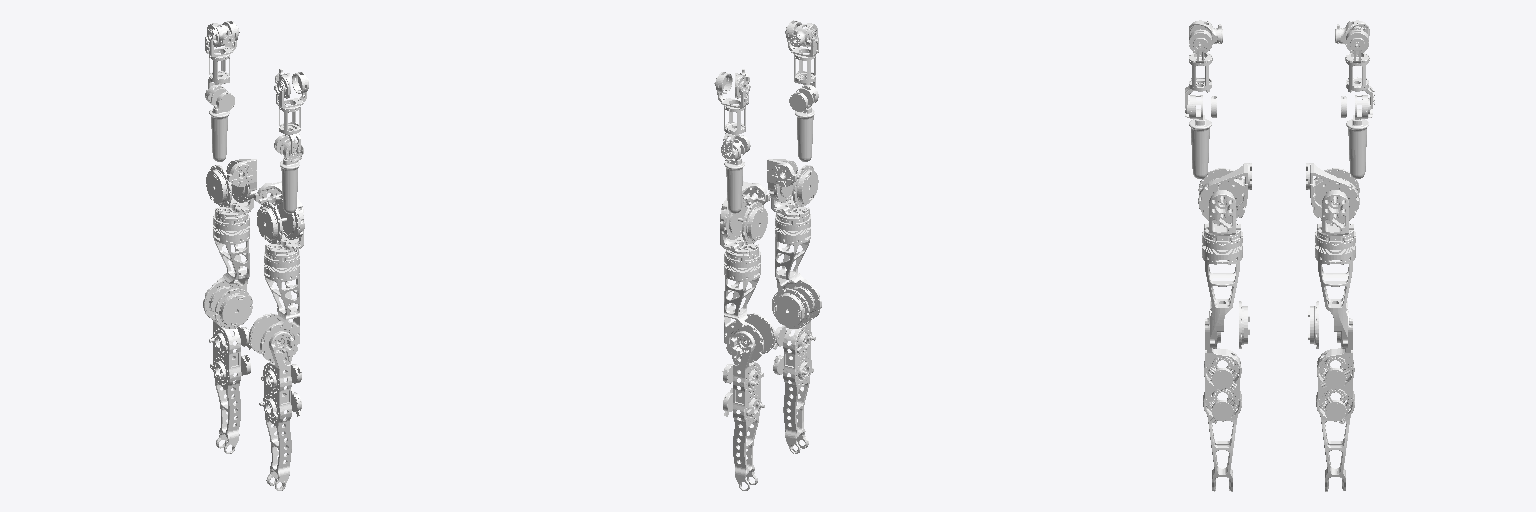
The robot description file, URDF, robot "marathon_001_urdf":
<?xml version="1.0" encoding="utf-8"?>
<!-- This URDF was automatically created by SolidWorks to URDF Exporter! Originally created by Stephen Brawner (brawner@gmail.com) 
     Commit Version: 1.6.0-4-g7f85cfe  Build Version: 1.6.7995.38578
     For more information, please see http://wiki.ros.org/sw_urdf_exporter -->
<robot
  name="marathon_001_urdf">
  <mujoco>
    <compiler meshdir="../meshes" discardvisual="false"/>
  </mujoco>
  <link
    name="base_link">
    <inertial>
      <origin
        xyz="-0.0004287 -1.711E-05 0.23553"
        rpy="0 0 0" />
      <mass
        value="15.517" />
      <inertia
        ixx="0.53359"
        ixy="-3.862E-05"
        ixz="0.0045012"
        iyy="0.5071"
        iyz="-0.00015184"
        izz="0.094812" />
    </inertial>
    <visual>
      <origin
        xyz="0 0 0"
        rpy="0 0 0" />
      <geometry>
        <mesh
          filename="../meshes/base_link.STL" />
      </geometry>
      <material
        name="">
        <color
          rgba="1 1 1 1" />
      </material>
    </visual>
    <collision>
      <origin
        xyz="0 0 0"
        rpy="0 0 0" />
      <geometry>
        <mesh
          filename="../meshes/base_link.STL" />
      </geometry>
    </collision>
  </link>
  <link
    name="right_shoulder_pitch_link">
    <inertial>
      <origin
        xyz="0.0030286 -0.052083 8.95E-05"
        rpy="0 0 0" />
      <mass
        value="0.66099" />
      <inertia
        ixx="0.00039239"
        ixy="1.626E-05"
        ixz="8.3E-07"
        iyy="0.00038548"
        iyz="-2.33E-06"
        izz="0.00050373" />
    </inertial>
    <visual>
      <origin
        xyz="0 0 0"
        rpy="0 0 0" />
      <geometry>
        <mesh
          filename="../meshes/right_shoulder_pitch_link.STL" />
      </geometry>
      <material
        name="">
        <color
          rgba="1 1 1 1" />
      </material>
    </visual>
    <collision>
      <origin
        xyz="0 0 0"
        rpy="0 0 0" />
      <geometry>
        <mesh
          filename="../meshes/right_shoulder_pitch_link.STL" />
      </geometry>
    </collision>
  </link>
  <joint
    name="right_shoulder_pitch_joint"
    type="revolute">
    <origin
      xyz="0 -0.144 0.4793"
      rpy="0 0 0" />
    <parent
      link="base_link" />
    <child
      link="right_shoulder_pitch_link" />
    <axis
      xyz="0 1 0" />
    <limit
      lower="-3.1416"
      upper="1.0472"
      effort="0"
      velocity="0" />
  </joint>
  <link
    name="right_shoulder_roll_link">
    <inertial>
      <origin
        xyz="-0.0023626 -0.0043411 -0.097936"
        rpy="0 0 0" />
      <mass
        value="0.32487" />
      <inertia
        ixx="0.0013023"
        ixy="3.33E-06"
        ixz="4.42E-05"
        iyy="0.0013747"
        iyz="-0.00012187"
        izz="0.00031857" />
    </inertial>
    <visual>
      <origin
        xyz="0 0 0"
        rpy="0 0 0" />
      <geometry>
        <mesh
          filename="../meshes/right_shoulder_roll_link.STL" />
      </geometry>
      <material
        name="">
        <color
          rgba="1 1 1 1" />
      </material>
    </visual>
    <collision>
      <origin
        xyz="0 0 0"
        rpy="0 0 0" />
      <geometry>
        <mesh
          filename="../meshes/right_shoulder_roll_link.STL" />
      </geometry>
    </collision>
  </link>
  <joint
    name="right_shoulder_roll_joint"
    type="revolute">
    <origin
      xyz="0 -0.058 0"
      rpy="0 0 0" />
    <parent
      link="right_shoulder_pitch_link" />
    <child
      link="right_shoulder_roll_link" />
    <axis
      xyz="1 0 0" />
    <limit
      lower="-3.1416"
      upper="0.3491"
      effort="0"
      velocity="0" />
  </joint>
  <link
    name="right_elbow_pitch_link">
    <inertial>
      <origin
        xyz="0.00062979 -0.00255 -0.014614"
        rpy="0 0 0" />
      <mass
        value="0.63926" />
      <inertia
        ixx="0.0011842"
        ixy="1.214E-05"
        ixz="-4.8E-06"
        iyy="0.001121"
        iyz="6.56E-06"
        izz="0.00030511" />
    </inertial>
    <visual>
      <origin
        xyz="0 0 0"
        rpy="0 0 0" />
      <geometry>
        <mesh
          filename="../meshes/right_elbow_pitch_link.STL" />
      </geometry>
      <material
        name="">
        <color
          rgba="1 1 1 1" />
      </material>
    </visual>
    <collision>
      <origin
        xyz="0 0 0"
        rpy="0 0 0" />
      <geometry>
        <mesh
          filename="../meshes/right_elbow_pitch_link.STL" />
      </geometry>
    </collision>
  </link>
  <joint
    name="right_elbow_pitch_joint"
    type="revolute">
    <origin
      xyz="0 0 -0.2015"
      rpy="0 0 0" />
    <parent
      link="right_shoulder_roll_link" />
    <child
      link="right_elbow_pitch_link" />
    <axis
      xyz="0 1 0" />
    <limit
      lower="-1.8675"
      upper="0"
      effort="0"
      velocity="0" />
  </joint>
  <link
    name="left_shoulder_pitch_link">
    <inertial>
      <origin
        xyz="0.003024 0.052268 0.0001184"
        rpy="0 0 0" />
      <mass
        value="0.65764" />
      <inertia
        ixx="0.00038606"
        ixy="-1.6E-05"
        ixz="1.2E-06"
        iyy="0.00038514"
        iyz="3.27E-06"
        izz="0.00049747" />
    </inertial>
    <visual>
      <origin
        xyz="0 0 0"
        rpy="0 0 0" />
      <geometry>
        <mesh
          filename="../meshes/left_shoulder_pitch_link.STL" />
      </geometry>
      <material
        name="">
        <color
          rgba="1 1 1 1" />
      </material>
    </visual>
    <collision>
      <origin
        xyz="0 0 0"
        rpy="0 0 0" />
      <geometry>
        <mesh
          filename="../meshes/left_shoulder_pitch_link.STL" />
      </geometry>
    </collision>
  </link>
  <joint
    name="left_shoulder_pitch_joint"
    type="revolute">
    <origin
      xyz="0 0.144 0.4793"
      rpy="0 0 0" />
    <parent
      link="base_link" />
    <child
      link="left_shoulder_pitch_link" />
    <axis
      xyz="0 1 0" />
    <limit
      lower="-3.1416"
      upper="1.0472"
      effort="0"
      velocity="0" />
  </joint>
  <link
    name="left_shoulder_roll_link">
    <inertial>
      <origin
        xyz="-0.0012088 0.0047034 -0.098785"
        rpy="0 0 0" />
      <mass
        value="0.32724" />
      <inertia
        ixx="0.0013282"
        ixy="-1.79E-06"
        ixz="5.01E-05"
        iyy="0.0013979"
        iyz="0.000132"
        izz="0.00032539" />
    </inertial>
    <visual>
      <origin
        xyz="0 0 0"
        rpy="0 0 0" />
      <geometry>
        <mesh
          filename="../meshes/left_shoulder_roll_link.STL" />
      </geometry>
      <material
        name="">
        <color
          rgba="1 1 1 1" />
      </material>
    </visual>
    <collision>
      <origin
        xyz="0 0 0"
        rpy="0 0 0" />
      <geometry>
        <mesh
          filename="../meshes/left_shoulder_roll_link.STL" />
      </geometry>
    </collision>
  </link>
  <joint
    name="left_shoulder_roll_joint"
    type="revolute">
    <origin
      xyz="0 0.058 0"
      rpy="0 0 0" />
    <parent
      link="left_shoulder_pitch_link" />
    <child
      link="left_shoulder_roll_link" />
    <axis
      xyz="1 0 0" />
    <limit
      lower="-0.3491"
      upper="3.1416"
      effort="0"
      velocity="0" />
  </joint>
  <link
    name="left_elbow_pitch_link">
    <inertial>
      <origin
        xyz="-0.00062979 0.0025546 -0.014614"
        rpy="0 0 0" />
      <mass
        value="0.63926" />
      <inertia
        ixx="0.0011842"
        ixy="1.214E-05"
        ixz="4.8E-06"
        iyy="0.001121"
        iyz="-6.56E-06"
        izz="0.00030511" />
    </inertial>
    <visual>
      <origin
        xyz="0 0 0"
        rpy="0 0 0" />
      <geometry>
        <mesh
          filename="../meshes/left_elbow_pitch_link.STL" />
      </geometry>
      <material
        name="">
        <color
          rgba="1 1 1 1" />
      </material>
    </visual>
    <collision>
      <origin
        xyz="0 0 0"
        rpy="0 0 0" />
      <geometry>
        <mesh
          filename="../meshes/left_elbow_pitch_link.STL" />
      </geometry>
    </collision>
  </link>
  <joint
    name="left_elbow_pitch_joint"
    type="revolute">
    <origin
      xyz="0 0 -0.2015"
      rpy="0 0 0" />
    <parent
      link="left_shoulder_roll_link" />
    <child
      link="left_elbow_pitch_link" />
    <axis
      xyz="0 1 0" />
    <limit
      lower="-1.8675"
      upper="0"
      effort="0"
      velocity="0" />
  </joint>
  <link
    name="right_leg_pelvic_pitch_link">
    <inertial>
      <origin
        xyz="0.060873 -0.069043 -0.04845"
        rpy="0 0 0" />
      <mass
        value="2.8001" />
      <inertia
        ixx="0.0068292"
        ixy="0.000881"
        ixz="0.000808"
        iyy="0.0054898"
        iyz="-0.00082575"
        izz="0.0054615" />
    </inertial>
    <visual>
      <origin
        xyz="0 0 0"
        rpy="0 0 0" />
      <geometry>
        <mesh
          filename="../meshes/right_leg_pelvic_pitch_link.STL" />
      </geometry>
      <material
        name="">
        <color
          rgba="1 1 1 1" />
      </material>
    </visual>
    <collision>
      <origin
        xyz="0 0 0"
        rpy="0 0 0" />
      <geometry>
        <mesh
          filename="../meshes/right_leg_pelvic_pitch_link.STL" />
      </geometry>
    </collision>
  </link>
  <joint
    name="right_leg_pelvic_pitch_pitch"
    type="revolute">
    <origin
      xyz="0 -0.07 0.0815"
      rpy="0 0 0" />
    <parent
      link="base_link" />
    <child
      link="right_leg_pelvic_pitch_link" />
    <axis
      xyz="0 1 0" />
    <limit
      lower="-1.9199"
      upper="1.5708"
      effort="0"
      velocity="0" />
  </joint>
  <link
    name="right_leg_pelvic_roll_link">
    <inertial>
      <origin
        xyz="0.034819 5.191E-05 -0.052217"
        rpy="0 0 0" />
      <mass
        value="0.62862" />
      <inertia
        ixx="0.0014584"
        ixy="-8.2E-07"
        ixz="-0.0003896"
        iyy="0.0015459"
        iyz="4.99E-06"
        izz="0.00058466" />
    </inertial>
    <visual>
      <origin
        xyz="0 0 0"
        rpy="0 0 0" />
      <geometry>
        <mesh
          filename="../meshes/right_leg_pelvic_roll_link.STL" />
      </geometry>
      <material
        name="">
        <color
          rgba="1 1 1 1" />
      </material>
    </visual>
    <collision>
      <origin
        xyz="0 0 0"
        rpy="0 0 0" />
      <geometry>
        <mesh
          filename="../meshes/right_leg_pelvic_roll_link.STL" />
      </geometry>
    </collision>
  </link>
  <joint
    name="right_leg_pelvic_roll_joint"
    type="revolute">
    <origin
      xyz="0 -0.0755 -0.055"
      rpy="0 0 0" />
    <parent
      link="right_leg_pelvic_pitch_link" />
    <child
      link="right_leg_pelvic_roll_link" />
    <axis
      xyz="1 0 0" />
    <limit
      lower="-1.5708"
      upper="0.17453"
      effort="0"
      velocity="0" />
  </joint>
  <link
    name="right_leg_pelvic_yaw_link">
    <inertial>
      <origin
        xyz="-0.0097934 0.0071978 -0.18611"
        rpy="0 0 0" />
      <mass
        value="4.1607" />
      <inertia
        ixx="0.060072"
        ixy="0.00043717"
        ixz="-0.0039166"
        iyy="0.061644"
        iyz="0.0028566"
        izz="0.0069952" />
    </inertial>
    <visual>
      <origin
        xyz="0 0 0"
        rpy="0 0 0" />
      <geometry>
        <mesh
          filename="../meshes/right_leg_pelvic_yaw_link.STL" />
      </geometry>
      <material
        name="">
        <color
          rgba="1 1 1 1" />
      </material>
    </visual>
    <collision>
      <origin
        xyz="0 0 0"
        rpy="0 0 0" />
      <geometry>
        <mesh
          filename="../meshes/right_leg_pelvic_yaw_link.STL" />
      </geometry>
    </collision>
  </link>
  <joint
    name="right_leg_pelvic_yaw_joint"
    type="revolute">
    <origin
      xyz="0.007 0 -0.0975"
      rpy="0 0 0" />
    <parent
      link="right_leg_pelvic_roll_link" />
    <child
      link="right_leg_pelvic_yaw_link" />
    <axis
      xyz="0 0 1" />
    <limit
      lower="-1.5708"
      upper="1.5708"
      effort="0"
      velocity="0" />
  </joint>
  <link
    name="right_leg_knee_pitch_link">
    <inertial>
      <origin
        xyz="0.0038038 -0.0031714 -0.19146"
        rpy="0 0 0" />
      <mass
        value="3.2321" />
      <inertia
        ixx="0.038303"
        ixy="-5.015E-05"
        ixz="-0.00084807"
        iyy="0.038375"
        iyz="0.0016444"
        izz="0.0034575" />
    </inertial>
    <visual>
      <origin
        xyz="0 0 0"
        rpy="0 0 0" />
      <geometry>
        <mesh
          filename="../meshes/right_leg_knee_pitch_link.STL" />
      </geometry>
      <material
        name="">
        <color
          rgba="1 1 1 1" />
      </material>
    </visual>
    <collision>
      <origin
        xyz="0 0 0"
        rpy="0 0 0" />
      <geometry>
        <mesh
          filename="../meshes/right_leg_knee_pitch_link.STL" />
      </geometry>
    </collision>
  </link>
  <joint
    name="right_leg_knee_pitch_joint"
    type="revolute">
    <origin
      xyz="-0.02 0 -0.2775"
      rpy="0 0 0" />
    <parent
      link="right_leg_pelvic_yaw_link" />
    <child
      link="right_leg_knee_pitch_link" />
    <axis
      xyz="0 1 0" />
    <limit
      lower="0"
      upper="2.5307"
      effort="0"
      velocity="0" />
  </joint>
  <link
    name="right_leg_ankle_pitch_link">
    <inertial>
      <origin
        xyz="0 0 0"
        rpy="0 0 0" />
      <mass
        value="0.11165" />
      <inertia
        ixx="3.31E-05"
        ixy="0"
        ixz="0"
        iyy="1.097E-05"
        iyz="0"
        izz="3.21E-05" />
    </inertial>
    <visual>
      <origin
        xyz="0 0 0"
        rpy="0 0 0" />
      <geometry>
        <mesh
          filename="../meshes/right_leg_ankle_pitch_link.STL" />
      </geometry>
      <material
        name="">
        <color
          rgba="1 1 1 1" />
      </material>
    </visual>
    <collision>
      <origin
        xyz="0 0 0"
        rpy="0 0 0" />
      <geometry>
        <mesh
          filename="../meshes/right_leg_ankle_pitch_link.STL" />
      </geometry>
    </collision>
  </link>
  <joint
    name="right_leg_ankle_pitch_joint"
    type="revolute">
    <origin
      xyz="0 0 -0.453"
      rpy="0 0 0" />
    <parent
      link="right_leg_knee_pitch_link" />
    <child
      link="right_leg_ankle_pitch_link" />
    <axis
      xyz="0 1 0" />
    <limit
      lower="-0.87266"
      upper="0.50614"
      effort="0"
      velocity="0" />
  </joint>
  <link
    name="right_leg_ankle_roll_link">
    <inertial>
      <origin
        xyz="0.01896 3.72E-06 -0.040477"
        rpy="0 0 0" />
      <mass
        value="1.0156" />
      <inertia
        ixx="0.0013195"
        ixy="0"
        ixz="0.000232"
        iyy="0.0054632"
        iyz="1E-08"
        izz="0.0059201" />
    </inertial>
    <visual>
      <origin
        xyz="0 0 0"
        rpy="0 0 0" />
      <geometry>
        <mesh
          filename="../meshes/right_leg_ankle_roll_link.STL" />
      </geometry>
      <material
        name="">
        <color
          rgba="1 1 1 1" />
      </material>
    </visual>
    <collision>
      <origin
        xyz="0 0 0"
        rpy="0 0 0" />
      <geometry>
        <mesh
          filename="../meshes/right_leg_ankle_roll_link.STL" />
      </geometry>
    </collision>
  </link>
  <joint
    name="right_leg_ankle_roll_joint"
    type="revolute">
    <origin
      xyz="0 0 0"
      rpy="0 0 0" />
    <parent
      link="right_leg_ankle_pitch_link" />
    <child
      link="right_leg_ankle_roll_link" />
    <axis
      xyz="1 0 0" />
    <limit
      lower="-0.50614"
      upper="0.50614"
      effort="0"
      velocity="0" />
  </joint>
  <link
    name="left_leg_pelvic_pitch_link">
    <inertial>
      <origin
        xyz="0.060908 0.069029 -0.048507"
        rpy="0 0 0" />
      <mass
        value="2.7971" />
      <inertia
        ixx="0.0068205"
        ixy="-0.00087312"
        ixz="0.000805"
        iyy="0.0054779"
        iyz="0.00082912"
        izz="0.0054584" />
    </inertial>
    <visual>
      <origin
        xyz="0 0 0"
        rpy="0 0 0" />
      <geometry>
        <mesh
          filename="../meshes/left_leg_pelvic_pitch_link.STL" />
      </geometry>
      <material
        name="">
        <color
          rgba="1 1 1 1" />
      </material>
    </visual>
    <collision>
      <origin
        xyz="0 0 0"
        rpy="0 0 0" />
      <geometry>
        <mesh
          filename="../meshes/left_leg_pelvic_pitch_link.STL" />
      </geometry>
    </collision>
  </link>
  <joint
    name="left_leg_pelvic_pitch_joint"
    type="revolute">
    <origin
      xyz="0 0.07 0.0815"
      rpy="0 0 0" />
    <parent
      link="base_link" />
    <child
      link="left_leg_pelvic_pitch_link" />
    <axis
      xyz="0 1 0" />
    <limit
      lower="-1.9199"
      upper="1.5708"
      effort="0"
      velocity="0" />
  </joint>
  <link
    name="left_leg_pelvic_roll_link">
    <inertial>
      <origin
        xyz="0.03481922 5.191E-05 -0.05221705"
        rpy="0 0 0" />
      <mass
        value="0.62861886" />
      <inertia
        ixx="0.00145838"
        ixy="-8.2E-07"
        ixz="-0.0003896"
        iyy="0.00154585"
        iyz="4.99E-06"
        izz="0.00058466" />
    </inertial>
    <visual>
      <origin
        xyz="0 0 0"
        rpy="0 0 0" />
      <geometry>
        <mesh
          filename="../meshes/left_leg_pelvic_roll_link.STL" />
      </geometry>
      <material
        name="">
        <color
          rgba="1 1 1 1" />
      </material>
    </visual>
    <collision>
      <origin
        xyz="0 0 0"
        rpy="0 0 0" />
      <geometry>
        <mesh
          filename="../meshes/left_leg_pelvic_roll_link.STL" />
      </geometry>
    </collision>
  </link>
  <joint
    name="left_leg_pelvic_roll_joint"
    type="revolute">
    <origin
      xyz="0 0.0755 -0.055"
      rpy="0 0 0" />
    <parent
      link="left_leg_pelvic_pitch_link" />
    <child
      link="left_leg_pelvic_roll_link" />
    <axis
      xyz="1 0 0" />
    <limit
      lower="-0.17453"
      upper="1.5708"
      effort="0"
      velocity="0" />
  </joint>
  <link
    name="left_leg_pelvic_yaw_link">
    <inertial>
      <origin
        xyz="-0.00979341 -0.00720895 -0.18611002"
        rpy="0 0 0" />
      <mass
        value="4.16066501" />
      <inertia
        ixx="0.06005604"
        ixy="-0.000431"
        ixz="-0.00391069"
        iyy="0.06164362"
        iyz="-0.00284451"
        izz="0.00700986" />
    </inertial>
    <visual>
      <origin
        xyz="0 0 0"
        rpy="0 0 0" />
      <geometry>
        <mesh
          filename="../meshes/left_leg_pelvic_yaw_link.STL" />
      </geometry>
      <material
        name="">
        <color
          rgba="1 1 1 1" />
      </material>
    </visual>
    <collision>
      <origin
        xyz="0 0 0"
        rpy="0 0 0" />
      <geometry>
        <mesh
          filename="../meshes/left_leg_pelvic_yaw_link.STL" />
      </geometry>
    </collision>
  </link>
  <joint
    name="left_leg_pelvic_yaw_joint"
    type="revolute">
    <origin
      xyz="0.007 0 -0.0975"
      rpy="0 0 0" />
    <parent
      link="left_leg_pelvic_roll_link" />
    <child
      link="left_leg_pelvic_yaw_link" />
    <axis
      xyz="0 0 1" />
    <limit
      lower="-1.5708"
      upper="1.5708"
      effort="0"
      velocity="0" />
  </joint>
  <link
    name="left_leg_knee_pitch_link">
    <inertial>
      <origin
        xyz="0.00381328 0.00304906 -0.19321143"
        rpy="0 0 0" />
      <mass
        value="3.21814013" />
      <inertia
        ixx="0.03812876"
        ixy="5.48E-05"
        ixz="-0.00091437"
        iyy="0.03818465"
        iyz="-0.00158824"
        izz="0.00346024" />
    </inertial>
    <visual>
      <origin
        xyz="0 0 0"
        rpy="0 0 0" />
      <geometry>
        <mesh
          filename="../meshes/left_leg_knee_pitch_link.STL" />
      </geometry>
      <material
        name="">
        <color
          rgba="1 1 1 1" />
      </material>
    </visual>
    <collision>
      <origin
        xyz="0 0 0"
        rpy="0 0 0" />
      <geometry>
        <mesh
          filename="../meshes/left_leg_knee_pitch_link.STL" />
      </geometry>
    </collision>
  </link>
  <joint
    name="left_leg_knee_pitch_joint"
    type="revolute">
    <origin
      xyz="-0.02 0 -0.2775"
      rpy="0 0 0" />
    <parent
      link="left_leg_pelvic_yaw_link" />
    <child
      link="left_leg_knee_pitch_link" />
    <axis
      xyz="0 1 0" />
    <limit
      lower="0"
      upper="2.5307"
      effort="0"
      velocity="0" />
  </joint>
  <link
    name="left_leg_ankle_pitch_link">
    <inertial>
      <origin
        xyz="0 0 0"
        rpy="0 0 0" />
      <mass
        value="0.11165331" />
      <inertia
        ixx="3.31E-05"
        ixy="0"
        ixz="0"
        iyy="1.097E-05"
        iyz="0"
        izz="3.21E-05" />
    </inertial>
    <visual>
      <origin
        xyz="0 0 0"
        rpy="0 0 0" />
      <geometry>
        <mesh
          filename="../meshes/left_leg_ankle_pitch_link.STL" />
      </geometry>
      <material
        name="">
        <color
          rgba="1 1 1 1" />
      </material>
    </visual>
    <collision>
      <origin
        xyz="0 0 0"
        rpy="0 0 0" />
      <geometry>
        <mesh
          filename="../meshes/left_leg_ankle_pitch_link.STL" />
      </geometry>
    </collision>
  </link>
  <joint
    name="left_leg_ankle_pitch_joint"
    type="revolute">
    <origin
      xyz="0 -0.0002 -0.453"
      rpy="0 0 0" />
    <parent
      link="left_leg_knee_pitch_link" />
    <child
      link="left_leg_ankle_pitch_link" />
    <axis
      xyz="0 1 0" />
    <limit
      lower="-0.87266"
      upper="0.50614"
      effort="0"
      velocity="0" />
  </joint>
  <link
    name="left_leg_ankle_roll_link">
    <inertial>
      <origin
        xyz="0.01896557 3.72E-06 -0.04048111"
        rpy="0 0 0" />
      <mass
        value="1.01655827" />
      <inertia
        ixx="0.00131954"
        ixy="0"
        ixz="0.000232"
        iyy="0.00546321"
        iyz="1E-08"
        izz="0.00592016" />
    </inertial>
    <visual>
      <origin
        xyz="0 0 0"
        rpy="0 0 0" />
      <geometry>
        <mesh
          filename="../meshes/left_leg_ankle_roll_link.STL" />
      </geometry>
      <material
        name="">
        <color
          rgba="1 1 1 1" />
      </material>
    </visual>
    <collision>
      <origin
        xyz="0 0 0"
        rpy="0 0 0" />
      <geometry>
        <mesh
          filename="../meshes/left_leg_ankle_roll_link.STL" />
      </geometry>
    </collision>
  </link>
  <joint
    name="left_leg_ankle_roll_joint"
    type="revolute">
    <origin
      xyz="0 0 0"
      rpy="0 0 0" />
    <parent
      link="left_leg_ankle_pitch_link" />
    <child
      link="left_leg_ankle_roll_link" />
    <axis
      xyz="1 0 0" />
    <limit
      lower="-0.50614"
      upper="0.50614"
      effort="0"
      velocity="0" />
  </joint>
</robot>

--- What the picture shows (computed from the rendered views, not written in the file) ---
3 views of the same robot in one strip: view 1: azimuth 30°, elevation 25°; view 2: azimuth 150°, elevation 25°; view 3: azimuth 270°, elevation 25° (orthographic).
Robot: marathon_001_urdf — 19 links, 18 joints (18 revolute); root link base_link; default pose: every joint at zero.
Visible links, largest first — view 1: right_leg_knee_pitch_link, left_leg_pelvic_yaw_link, right_leg_pelvic_yaw_link, left_leg_knee_pitch_link, right_leg_pelvic_pitch_link, left_leg_pelvic_pitch_link, left_elbow_pitch_link, right_elbow_pitch_link, right_shoulder_roll_link, left_shoulder_roll_link, left_shoulder_pitch_link, right_shoulder_pitch_link; view 2: left_leg_knee_pitch_link, right_leg_pelvic_yaw_link, left_leg_pelvic_yaw_link, right_leg_knee_pitch_link, left_leg_pelvic_pitch_link, right_leg_pelvic_pitch_link, right_elbow_pitch_link, left_elbow_pitch_link, left_shoulder_roll_link, right_shoulder_roll_link, right_shoulder_pitch_link; view 3: left_leg_knee_pitch_link, right_leg_knee_pitch_link, right_leg_pelvic_yaw_link, left_leg_pelvic_yaw_link, left_leg_pelvic_pitch_link, right_leg_pelvic_pitch_link, right_elbow_pitch_link, left_elbow_pitch_link, left_leg_pelvic_roll_link, right_leg_pelvic_roll_link, left_shoulder_roll_link, right_shoulder_roll_link (+2 smaller).
Link boxes in pixels (x1,y1,x2,y2): right_leg_knee_pitch_link: (259, 331, 301, 490); left_leg_pelvic_yaw_link: (203, 207, 252, 328); right_leg_pelvic_yaw_link: (249, 244, 299, 362); left_leg_knee_pitch_link: (209, 320, 251, 453); right_leg_pelvic_pitch_link: (254, 181, 304, 243); left_leg_pelvic_pitch_link: (206, 159, 256, 206); left_elbow_pitch_link: (205, 85, 234, 161); right_elbow_pitch_link: (274, 135, 303, 213); right_shoulder_roll_link: (276, 78, 308, 158); left_shoulder_roll_link: (205, 26, 239, 88); left_shoulder_pitch_link: (207, 21, 238, 47); right_shoulder_pitch_link: (274, 69, 308, 98); left_leg_knee_pitch_link: (722, 331, 764, 490); right_leg_pelvic_yaw_link: (772, 207, 821, 328); left_leg_pelvic_yaw_link: (724, 243, 775, 362); right_leg_knee_pitch_link: (773, 320, 815, 453); left_leg_pelvic_pitch_link: (720, 181, 770, 243); right_leg_pelvic_pitch_link: (767, 159, 818, 206); right_elbow_pitch_link: (789, 85, 818, 161); left_elbow_pitch_link: (721, 135, 750, 213); left_shoulder_roll_link: (714, 77, 748, 158); right_shoulder_roll_link: (785, 26, 818, 87); right_shoulder_pitch_link: (786, 20, 817, 47); left_leg_knee_pitch_link: (1316, 311, 1354, 491); right_leg_knee_pitch_link: (1203, 311, 1241, 491); right_leg_pelvic_yaw_link: (1202, 223, 1249, 348); left_leg_pelvic_yaw_link: (1308, 223, 1355, 348); left_leg_pelvic_pitch_link: (1306, 163, 1359, 223); right_leg_pelvic_pitch_link: (1198, 163, 1251, 224); right_elbow_pitch_link: (1185, 95, 1216, 178); left_elbow_pitch_link: (1341, 95, 1372, 178); left_leg_pelvic_roll_link: (1317, 190, 1353, 235); right_leg_pelvic_roll_link: (1204, 190, 1240, 235); left_shoulder_roll_link: (1345, 26, 1374, 113); right_shoulder_roll_link: (1185, 38, 1212, 105).
Bounding box of the posed robot: 0.144 × 0.4889 × 1.33 m (x, y, z).
14 mesh visuals loaded from 19 distinct referenced files (14 binary STL); not drawn: 5 (reference not matched to a file when rendering).
